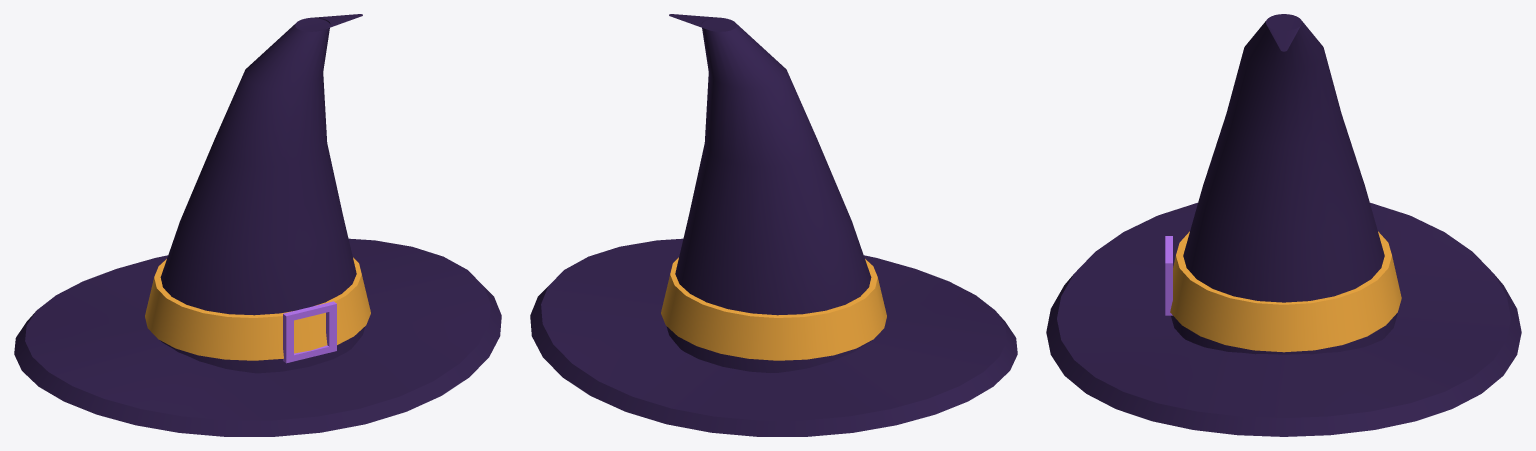
Rendered from KD_Pumpkin_WitchHat.fbx.
3 views of the same model, side by side, from view 1: azimuth 30°, elevation 25°; view 2: azimuth 150°, elevation 25°; view 3: azimuth 270°, elevation 25° (orthographic). The views are drawn at different scales.
Parts seen in each view (by area): view 1: KD_Pumpkin_WitchHat; view 2: KD_Pumpkin_WitchHat; view 3: KD_Pumpkin_WitchHat.
Part boxes in pixels (x1,y1,x2,y2): KD_Pumpkin_WitchHat: (14, 14, 501, 436); KD_Pumpkin_WitchHat: (530, 14, 1017, 436); KD_Pumpkin_WitchHat: (1046, 14, 1521, 436).
Bounding box in the file's own units: 0.224 × 0.154 × 0.1904.
Materials: 1 (1 with a texture image).
